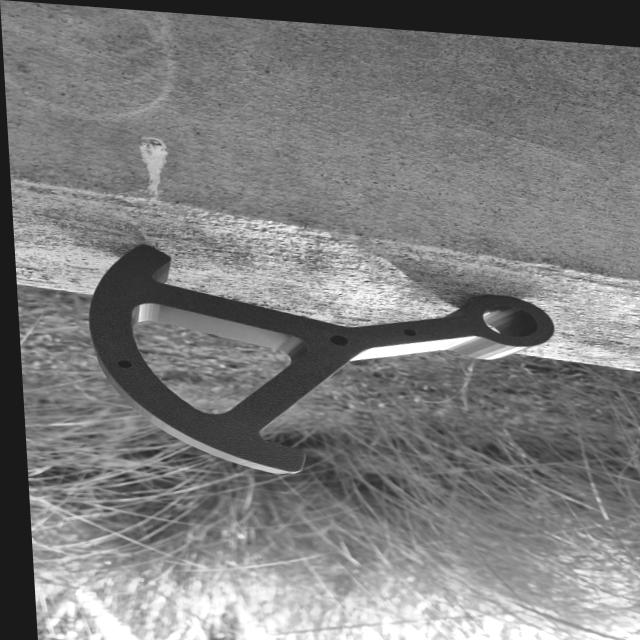haptic: (79, 239, 569, 498)
